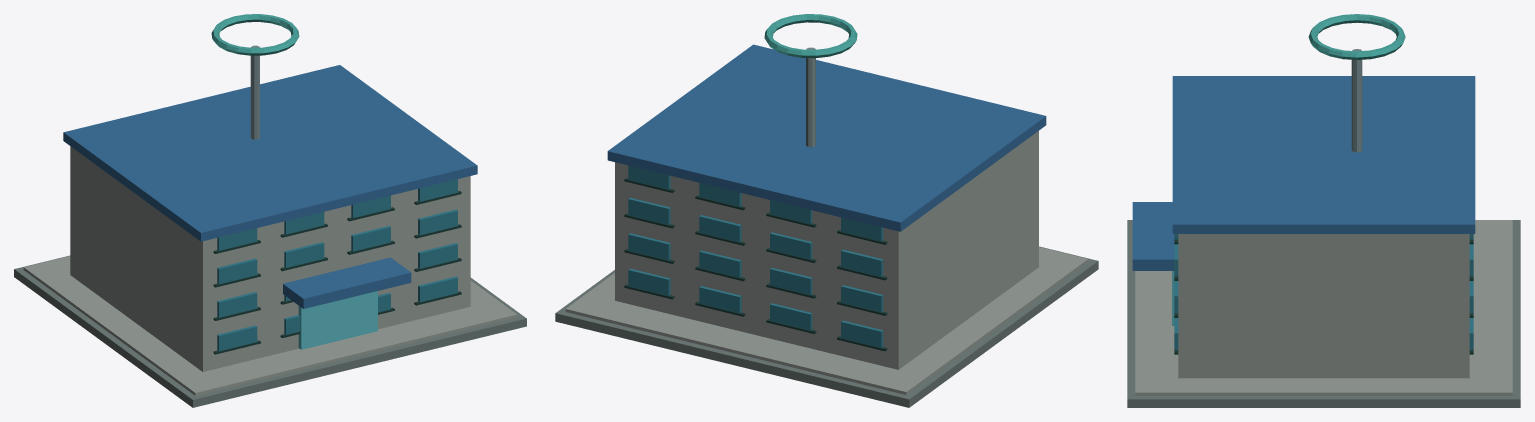
The model's file is security_hub_lv2.glb.
3 renders of one model, left to right at view 1: azimuth 30°, elevation 25°; view 2: azimuth 150°, elevation 25°; view 3: azimuth 270°, elevation 25°, orthographic. The views are drawn at different scales.
Parts seen in each view (by area): view 1: rough, glossy, metallic; view 2: rough, glossy, metallic; view 3: rough, glossy, metallic.
Boxes of the visible parts, left/top/right/bottom form: rough: left=14, top=14, right=526, bottom=407; glossy: left=217, top=179, right=457, bottom=351; metallic: left=250, top=45, right=259, bottom=139; rough: left=555, top=14, right=1098, bottom=407; glossy: left=628, top=165, right=883, bottom=347; metallic: left=806, top=47, right=815, bottom=147; rough: left=1127, top=14, right=1520, bottom=407; glossy: left=1172, top=234, right=1473, bottom=349; metallic: left=1351, top=49, right=1362, bottom=152.
Size of the model in its own units: 9.6 by 7.12 by 8.9.
